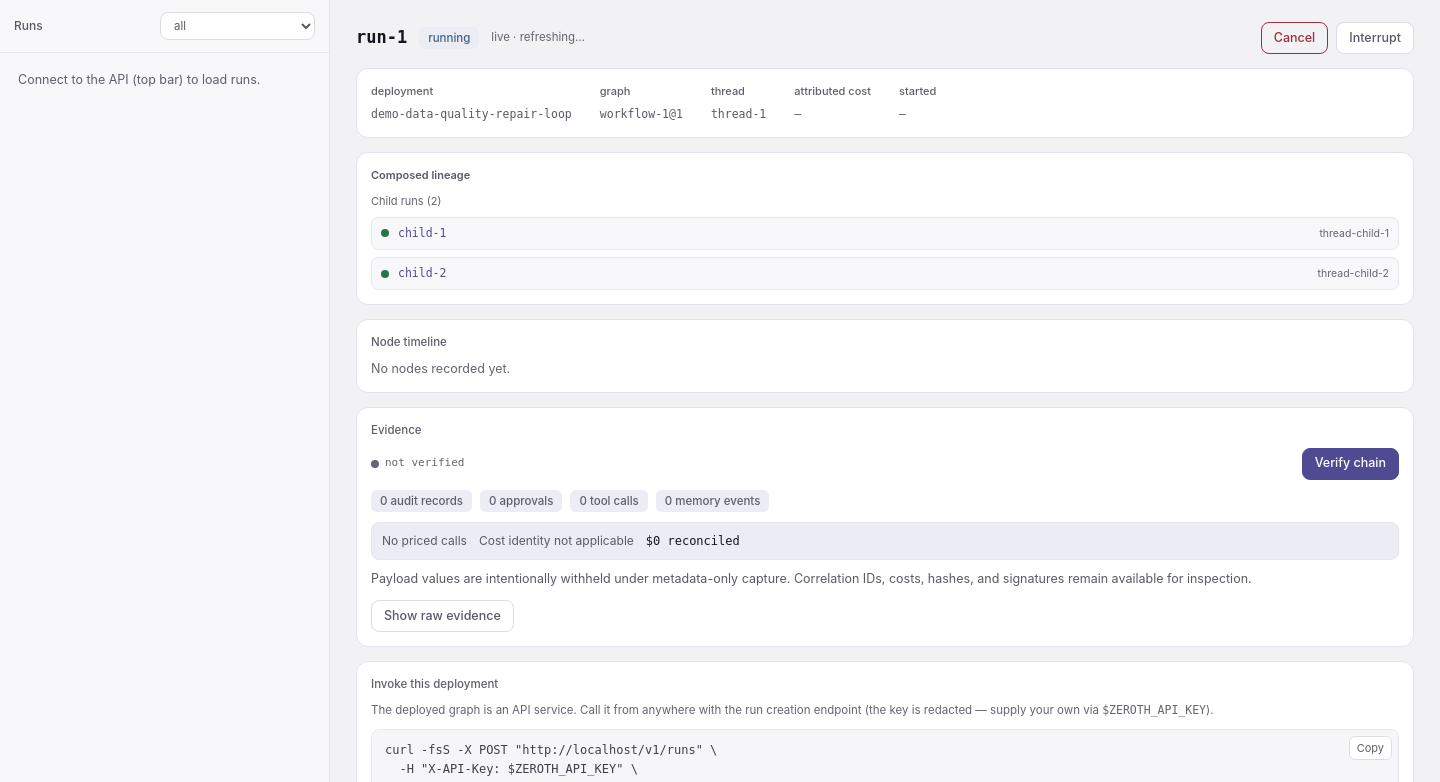
run cancellation › keeps a cancellation API failure visible
Click the button "Cancel" at (1295, 38), box [1261, 22, 1328, 54]
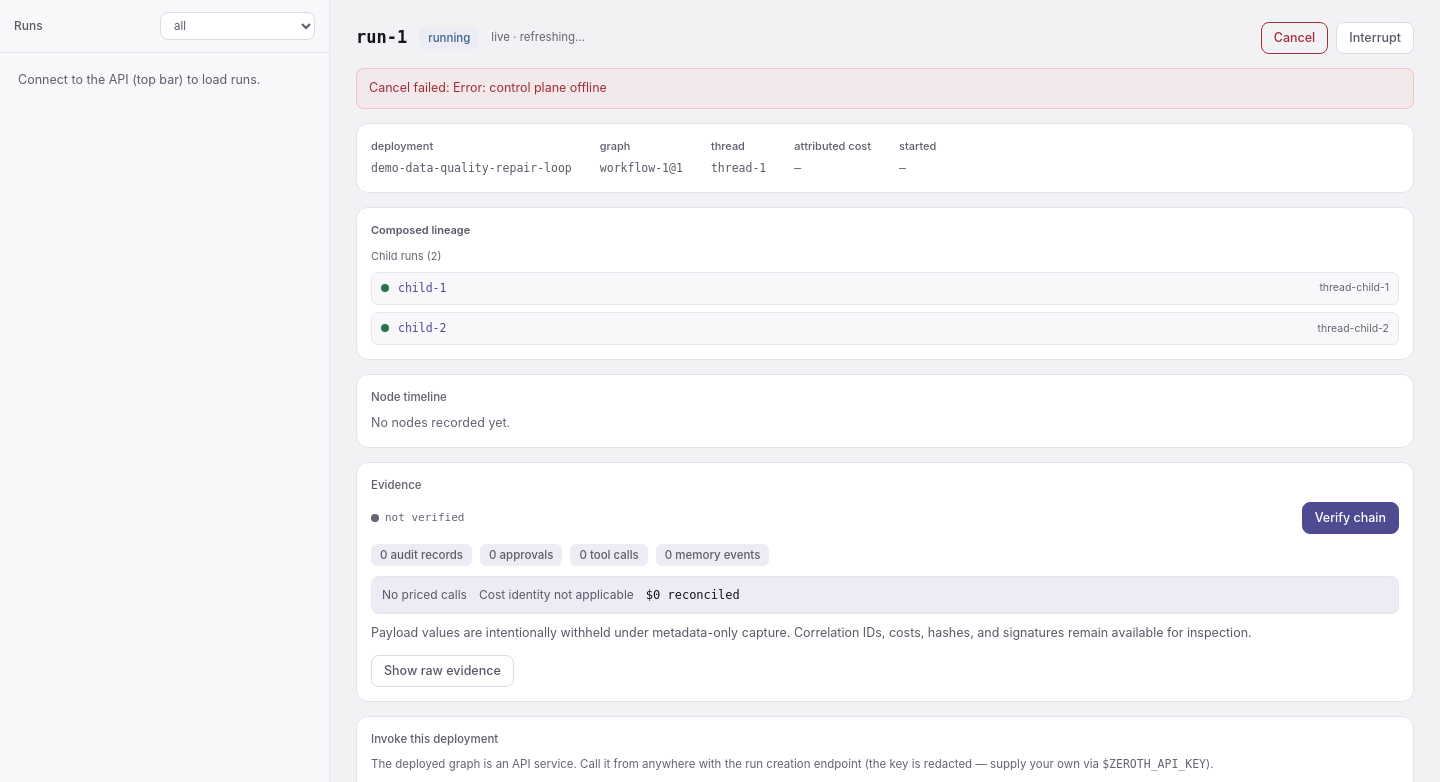
Check: the message "Cancel failed: Error: control plane offline" is shown, box [356, 68, 1414, 109]
